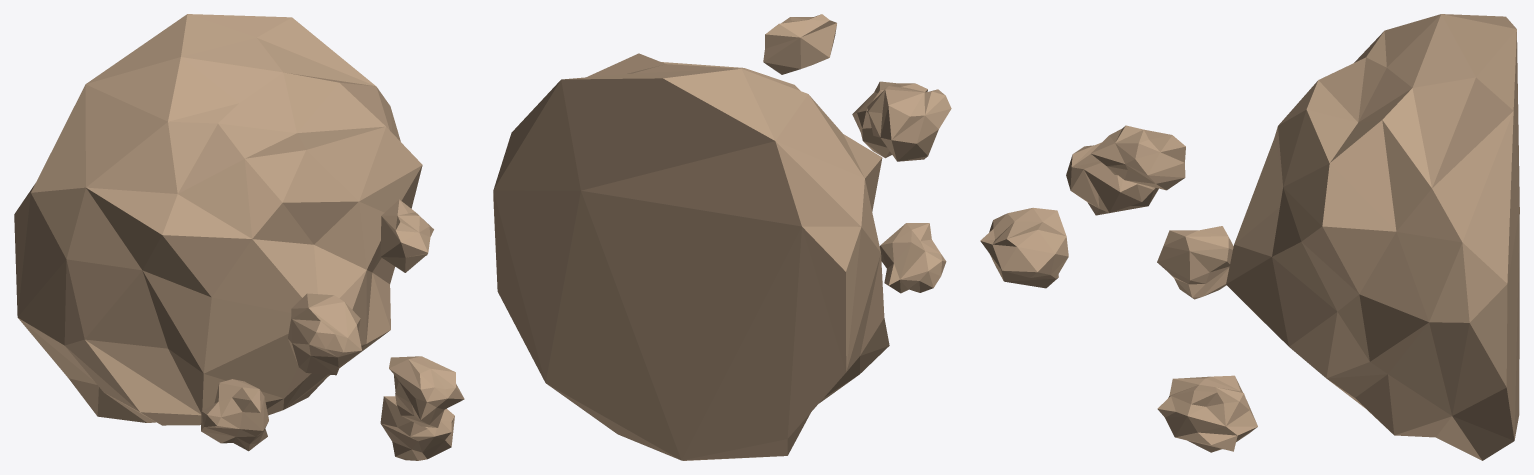
File: AstroidTile_5.fbx
3 renders of one model, left to right at view 1: azimuth 30°, elevation 25°; view 2: azimuth 150°, elevation 25°; view 3: azimuth 270°, elevation 25°, orthographic. The views are drawn at different scales.
Visible parts, largest first — view 1: Astroid.004; view 2: Astroid.004; view 3: Astroid.004.
Part boxes in pixels (x1,y1,x2,y2): Astroid.004: [14, 14, 464, 460]; Astroid.004: [493, 14, 951, 460]; Astroid.004: [980, 14, 1519, 460].
Size of the model in its own units: 0.9643 by 0.9779 by 1.16.
